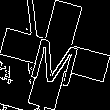M_N: (26, 25, 84, 85)
